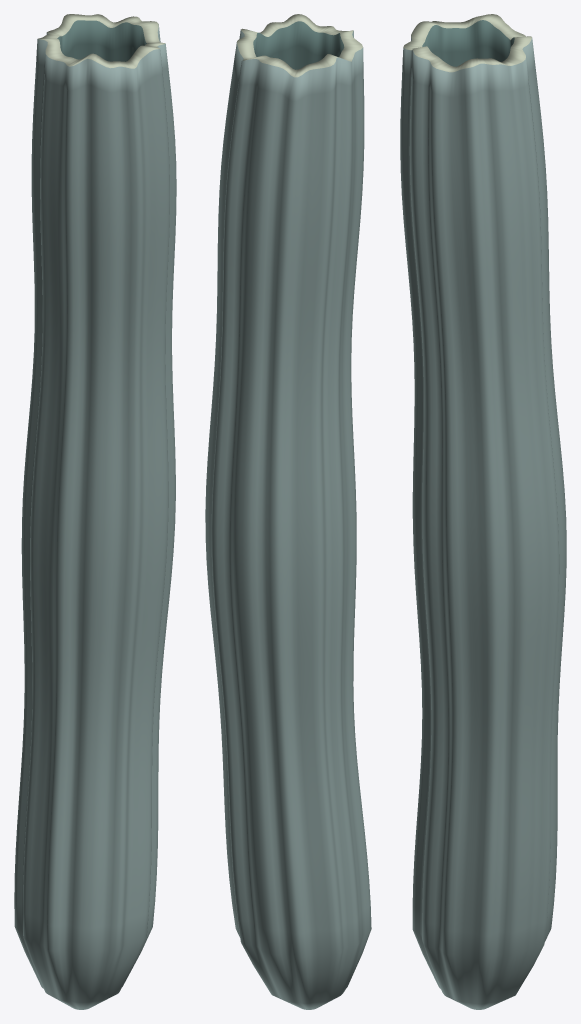
The model's file is leptomitus.glb.
3 renders of one model, left to right at view 1: azimuth 30°, elevation 25°; view 2: azimuth 150°, elevation 25°; view 3: azimuth 270°, elevation 25°, orthographic.
Visible parts, largest first — view 1: elongate-wrinkled-continuous-tube-and-rounded-base; view 2: elongate-wrinkled-continuous-tube-and-rounded-base; view 3: elongate-wrinkled-continuous-tube-and-rounded-base.
Part boxes in pixels (x1=…): elongate-wrinkled-continuous-tube-and-rounded-base: x1=14, y1=14, x2=176, y2=1009; elongate-wrinkled-continuous-tube-and-rounded-base: x1=205, y1=14, x2=371, y2=1009; elongate-wrinkled-continuous-tube-and-rounded-base: x1=400, y1=14, x2=566, y2=1009.
Bounding box in the file's own units: 0.0315 × 0.2012 × 0.0311.
